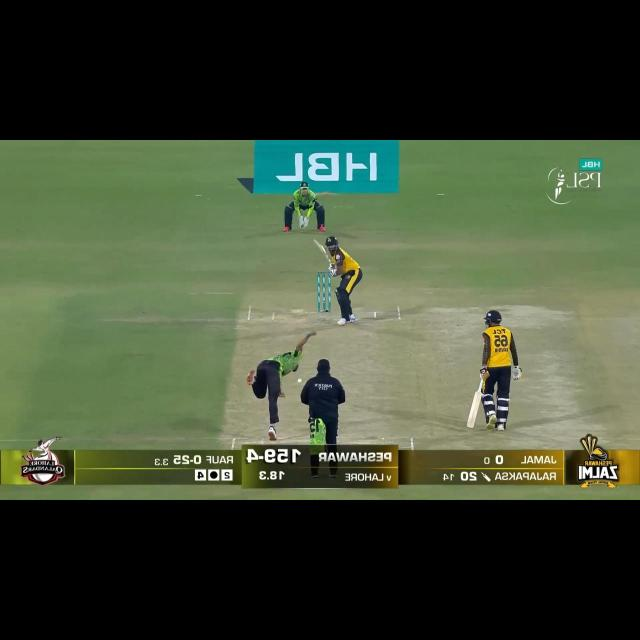bat: (466, 389, 483, 429), (314, 239, 331, 263)
toe: (466, 421, 474, 429), (314, 239, 320, 246)
